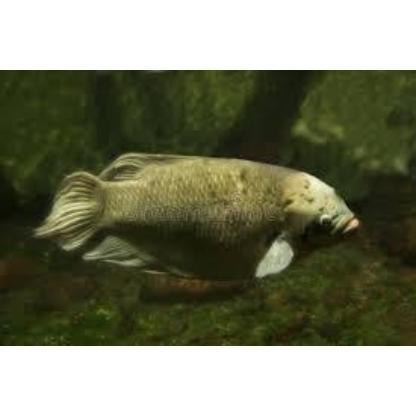gurame: (65, 148, 355, 280)
